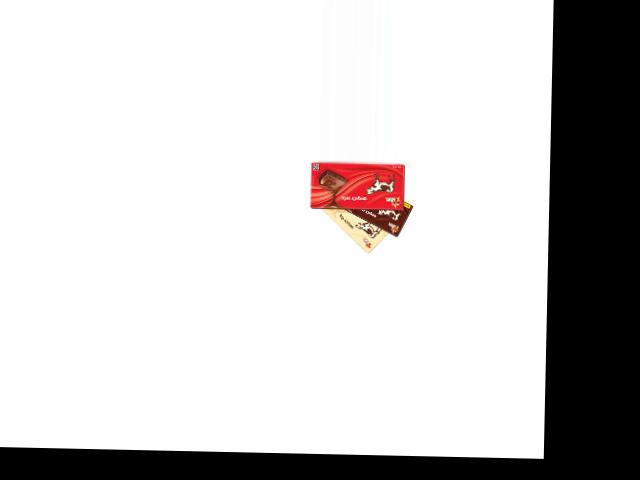chocolate: (312, 199, 399, 255)
